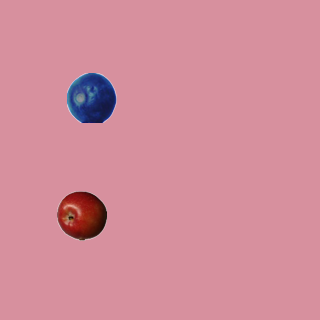Apple Braeburn: (56, 190, 106, 240)
Huckleberry: (66, 72, 116, 122)
